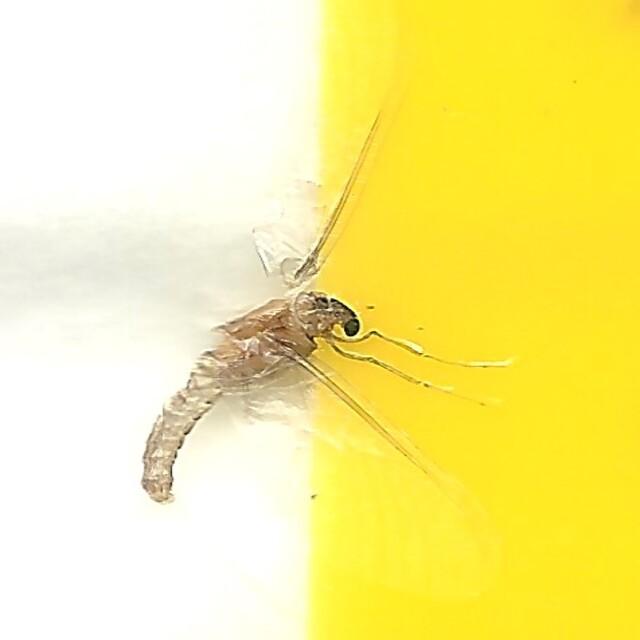Ephemeroptera: (134, 105, 506, 535)
